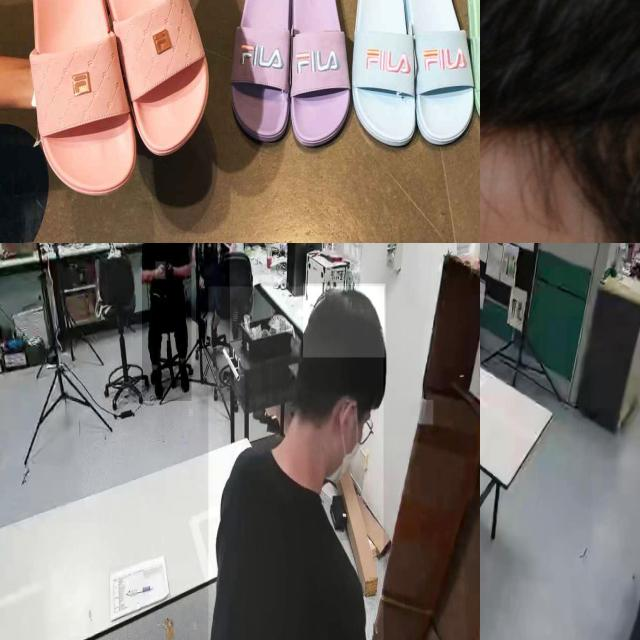No_Ear-Protection: (480, 63, 554, 243)
Sandals: (13, 0, 217, 214), (331, 0, 480, 169), (216, 0, 355, 151)
face_mask: (320, 393, 370, 484)
hand_noglove: (156, 262, 166, 280), (165, 260, 174, 278)
head_nohelmet: (303, 284, 386, 358)
person: (208, 286, 383, 640), (142, 243, 192, 402), (196, 243, 230, 349)
shoes: (148, 365, 167, 402), (173, 357, 192, 393)
